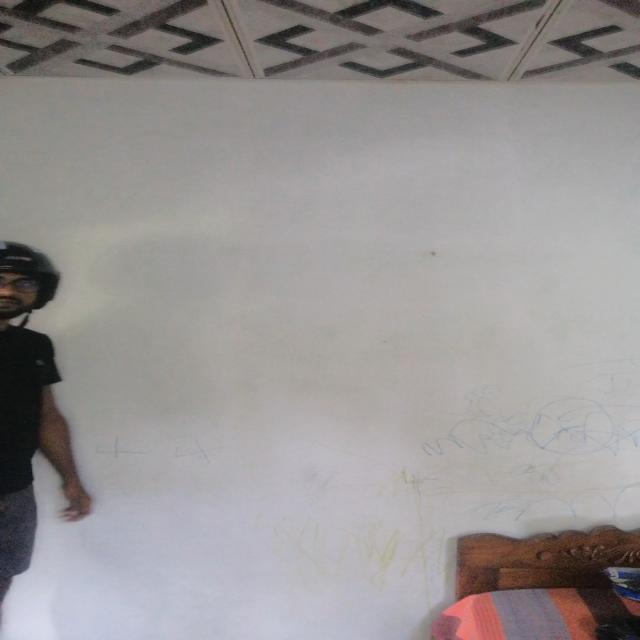Helmet_Wearer: (0, 243, 71, 349)
Person: (0, 241, 105, 640)
